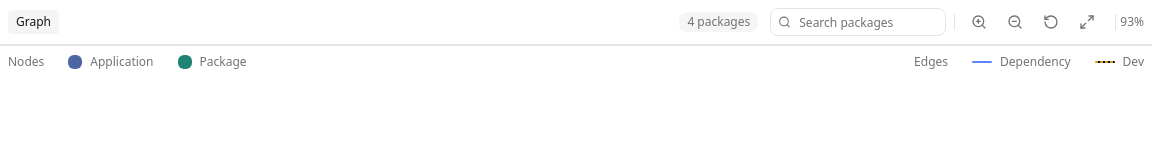
Test case: TurborepoGraphVisual › Search › lists the nodes matching what was typed
Step 1. Type "ui" into the search field labelled "Search packages" → (858, 22), box [770, 8, 946, 36]
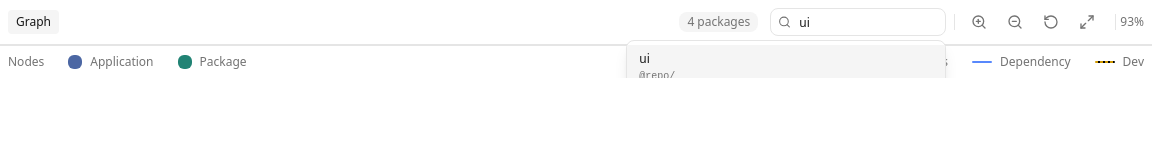
Expected: the number of options is 1, [627, 45, 945, 78]
Expected: the option shows "ui", [627, 45, 945, 78]
